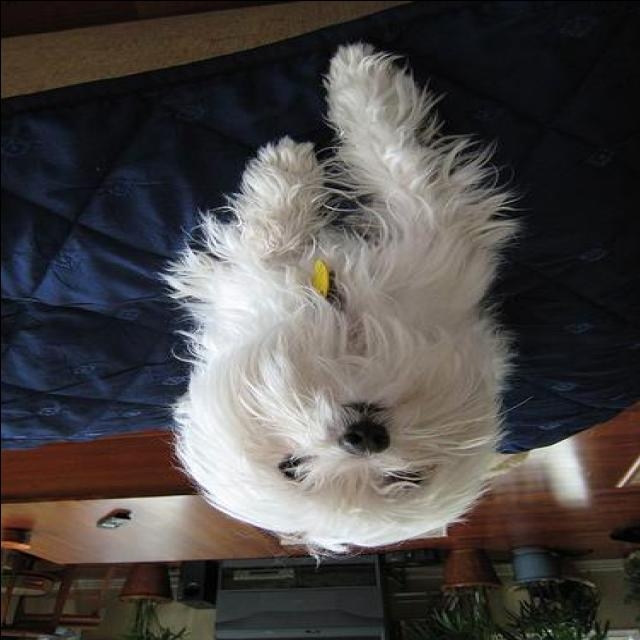maltese_dog: (162, 44, 512, 568)
